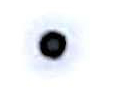cancer: (18, 12, 92, 82)
